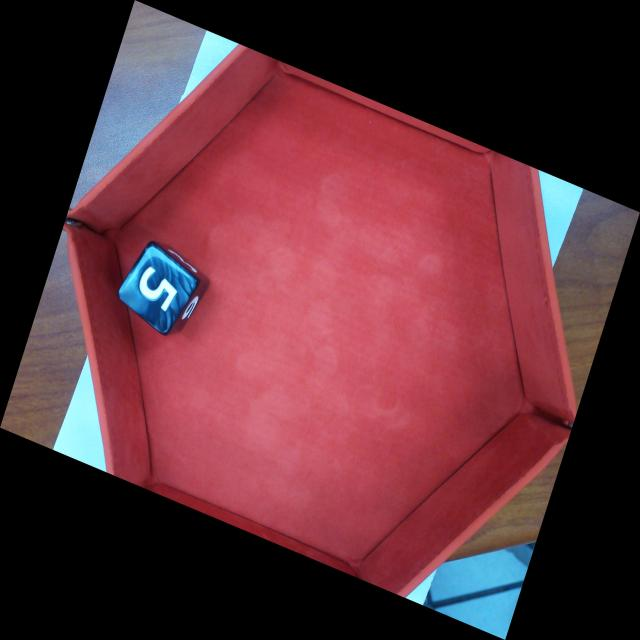dice: (116, 243, 200, 331)
